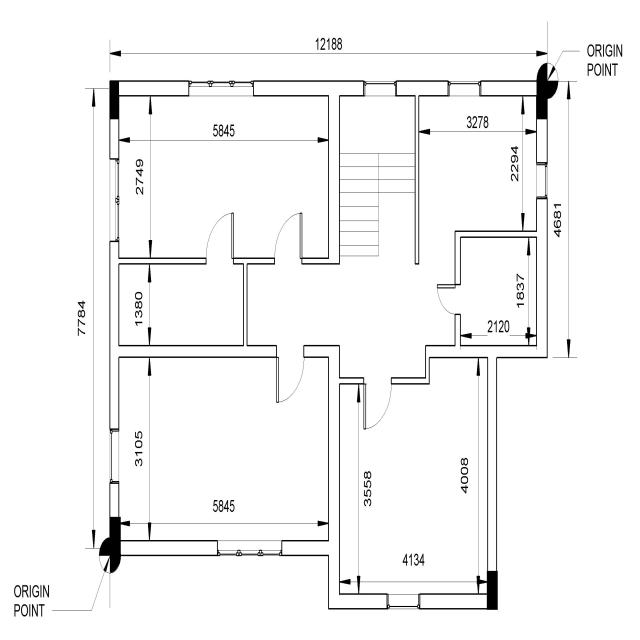Column: (536, 77, 550, 122), (486, 570, 498, 611), (109, 516, 121, 557), (109, 80, 120, 120)
Door: (195, 208, 238, 268), (274, 338, 308, 408), (360, 372, 397, 433), (270, 208, 305, 268), (432, 282, 459, 319)
Staircase: (335, 106, 418, 263)
Window: (214, 536, 286, 562), (185, 78, 258, 99), (109, 155, 120, 245), (384, 589, 423, 613), (108, 426, 120, 488), (362, 78, 398, 98), (534, 158, 550, 203), (447, 79, 482, 98)
